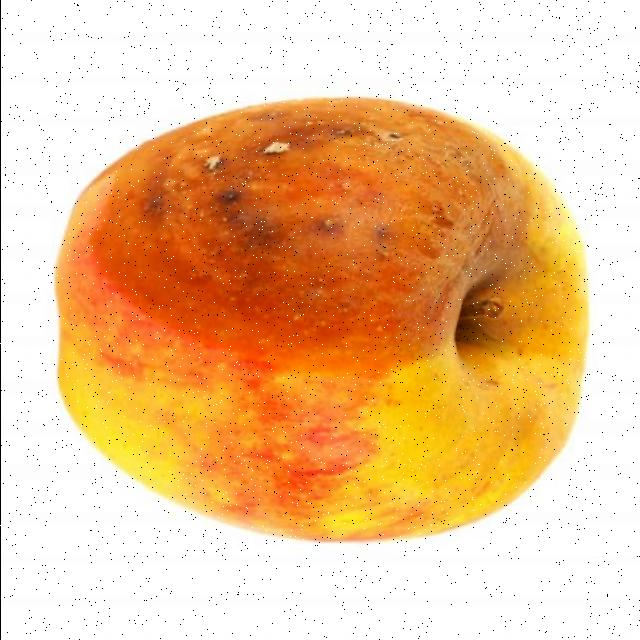ROT: (44, 86, 612, 548)
